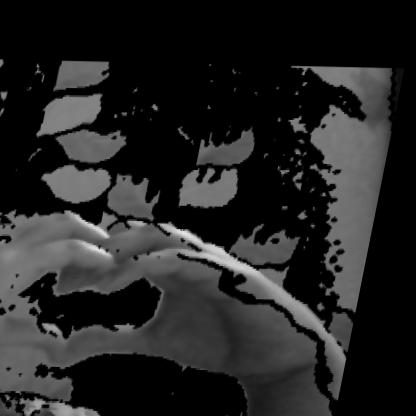heart: (0, 200, 246, 369)
